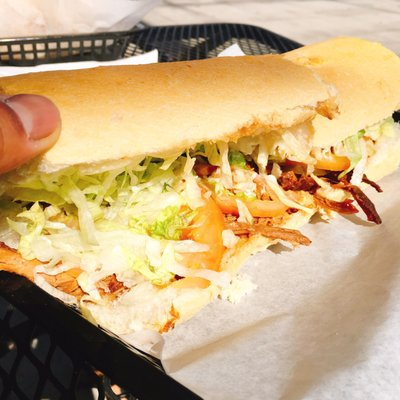sandwich: (0, 24, 367, 72)
soup: (4, 52, 397, 373)
